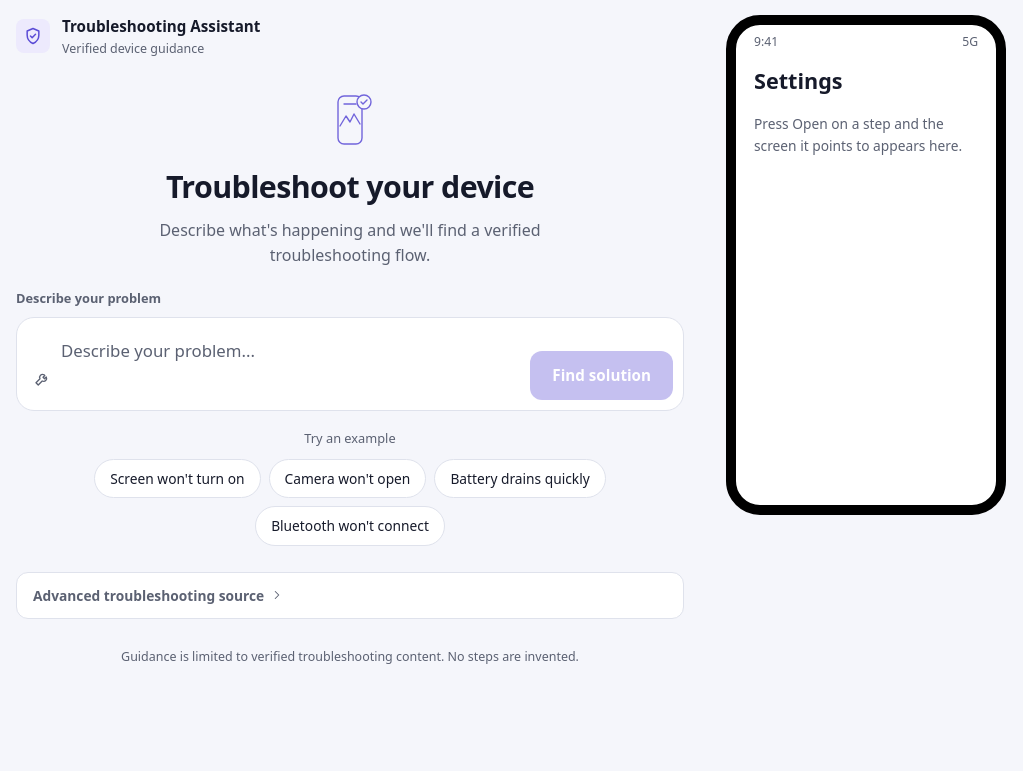
Scenario: App › explains an empty result and offers example chips to retry with
In the text box labelled "Describe your problem": (291, 364) [61,328,520,400], type "best pasta recipe"
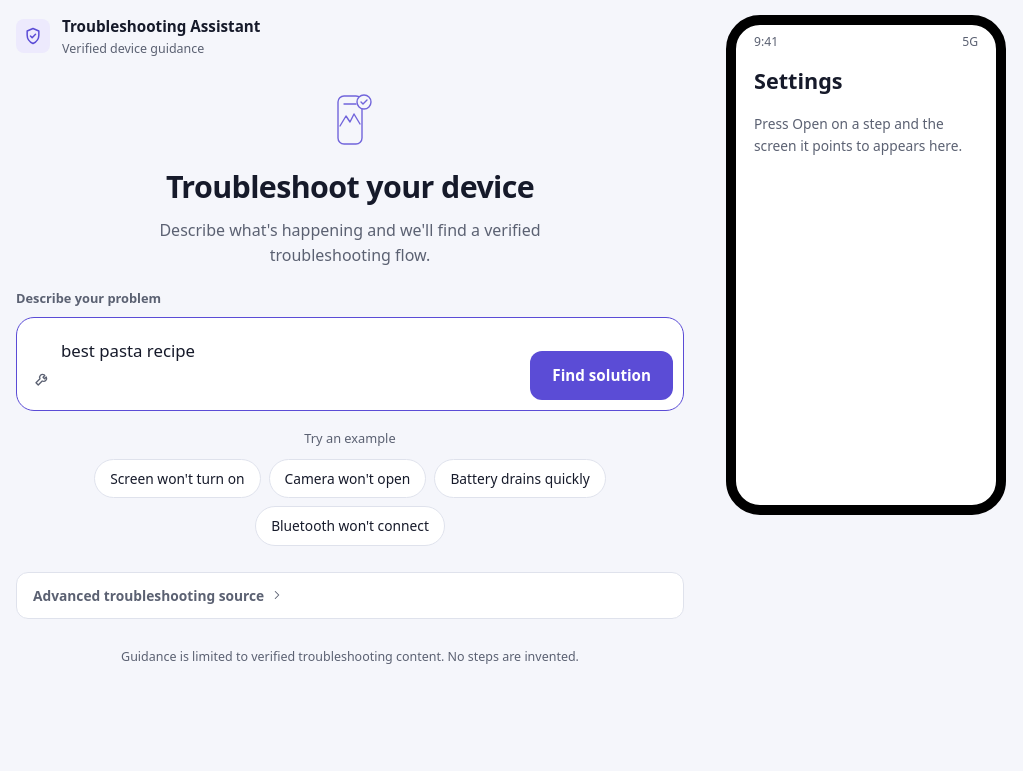
Click the button "Find solution": (602, 376) [530,351,673,400]
(page scrolled)
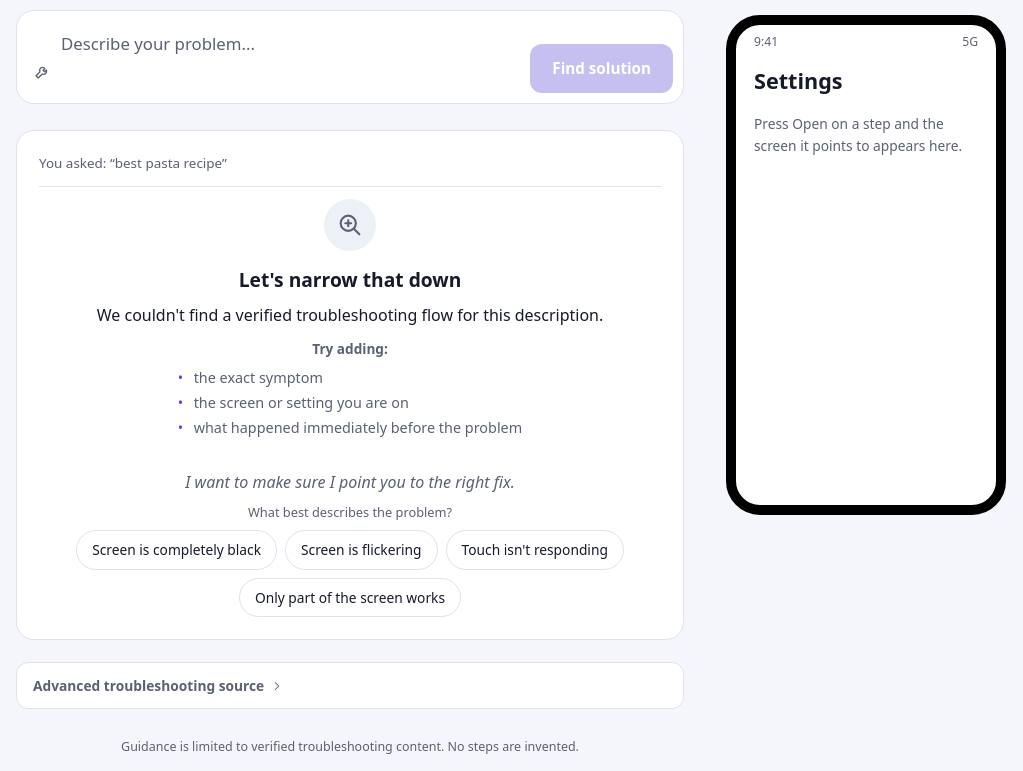
Now the heading "Let's narrow that down" is shown, box [239,266,461,293]
Now the text "couldn't find a verified troubleshooting flow" is shown, box [97,304,603,326]
Now the text "What best describes the problem?" is shown, box [248,502,452,520]
